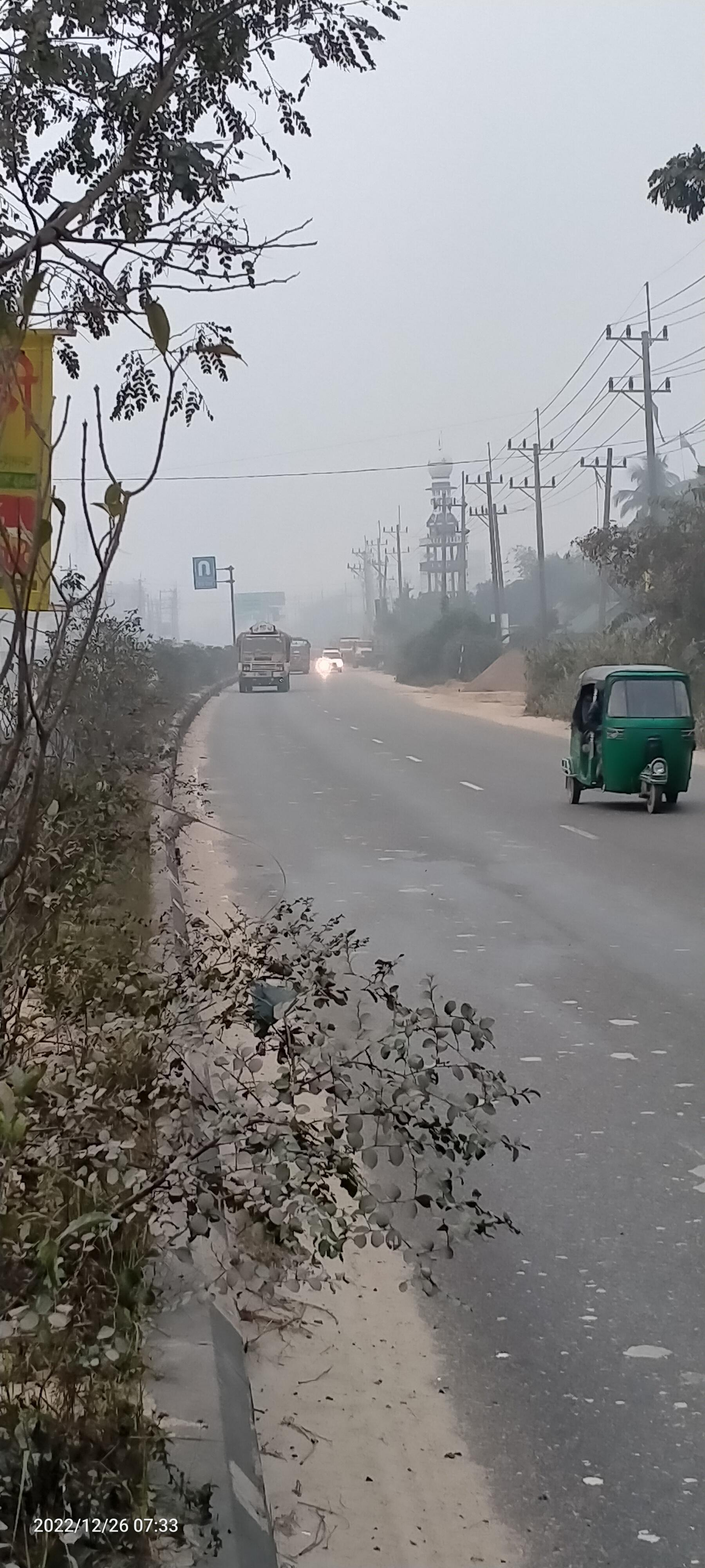Bus: (285, 629, 315, 680)
Truck: (232, 617, 295, 698), (321, 643, 347, 679)
